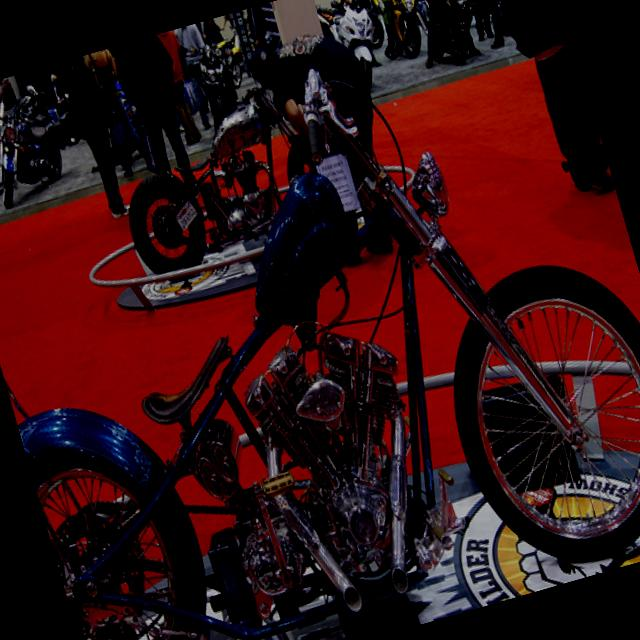Vehicle: (0, 0, 640, 640), (0, 0, 441, 214), (98, 74, 334, 292), (0, 68, 78, 212), (94, 81, 152, 171), (430, 0, 494, 63), (214, 37, 248, 90), (54, 91, 84, 146), (359, 0, 391, 48)
